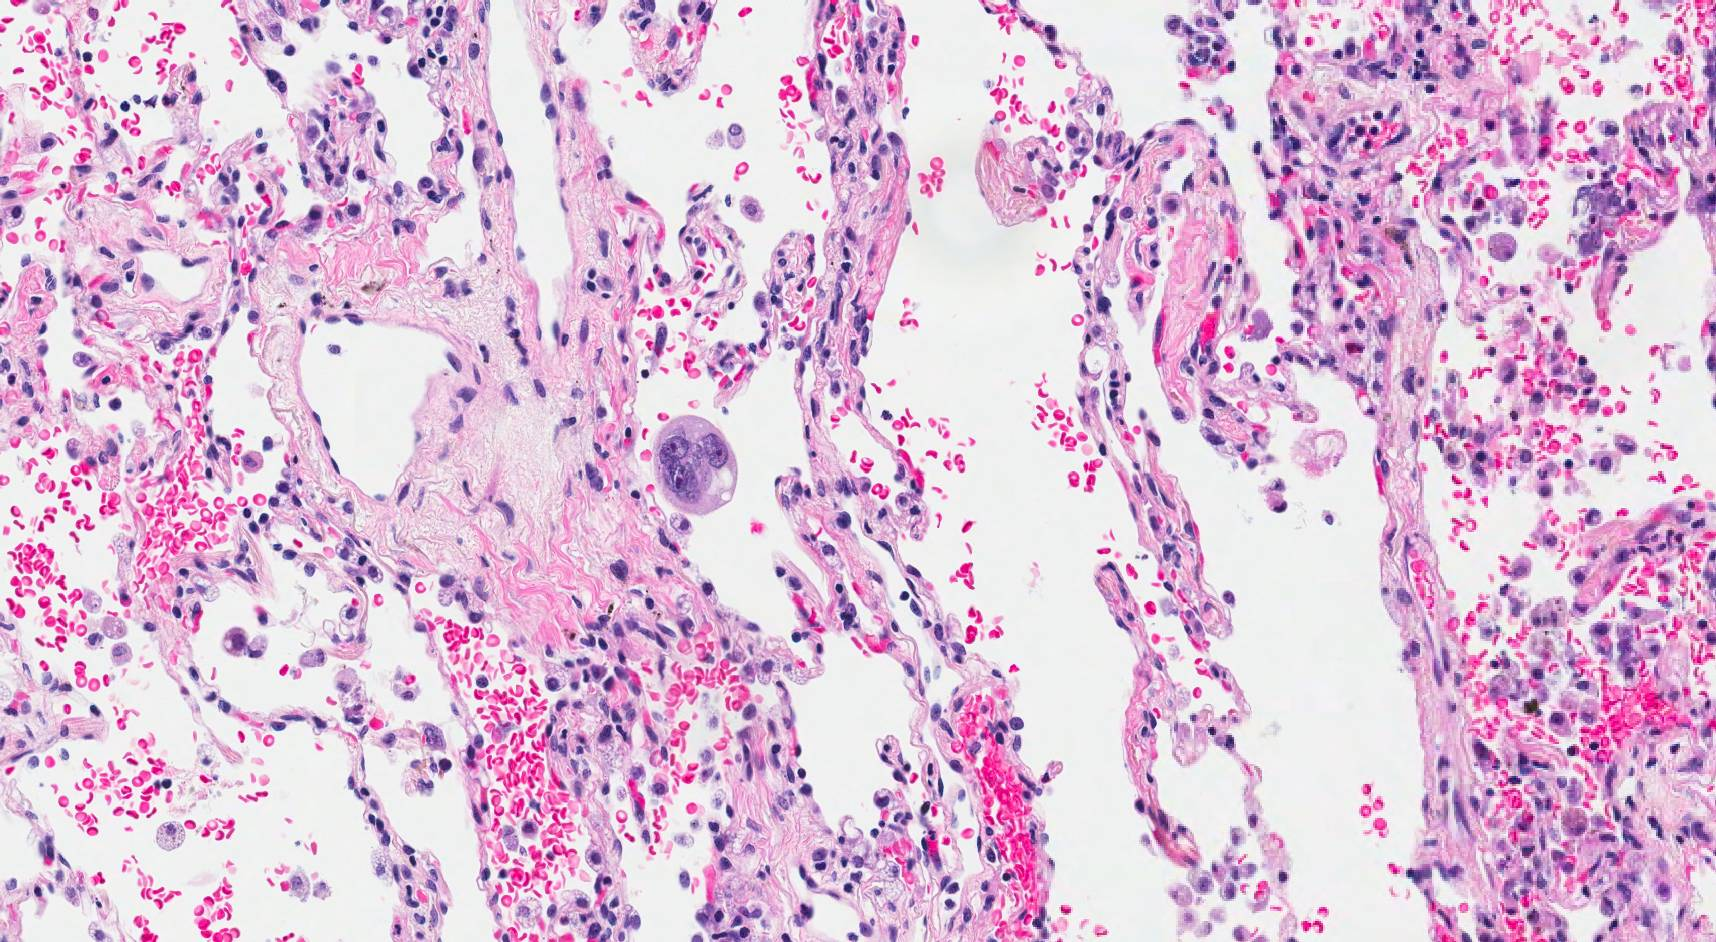stas: (650, 415, 739, 514)
